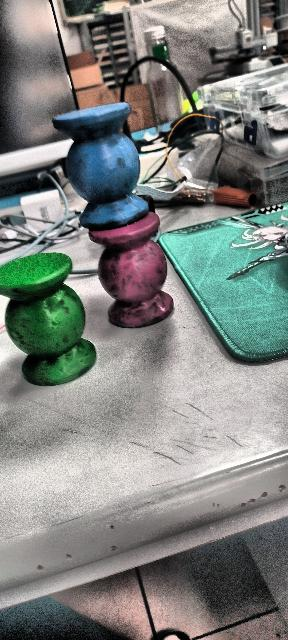blue: (52, 102, 150, 230)
green: (0, 252, 100, 394)
red: (88, 227, 198, 331)
